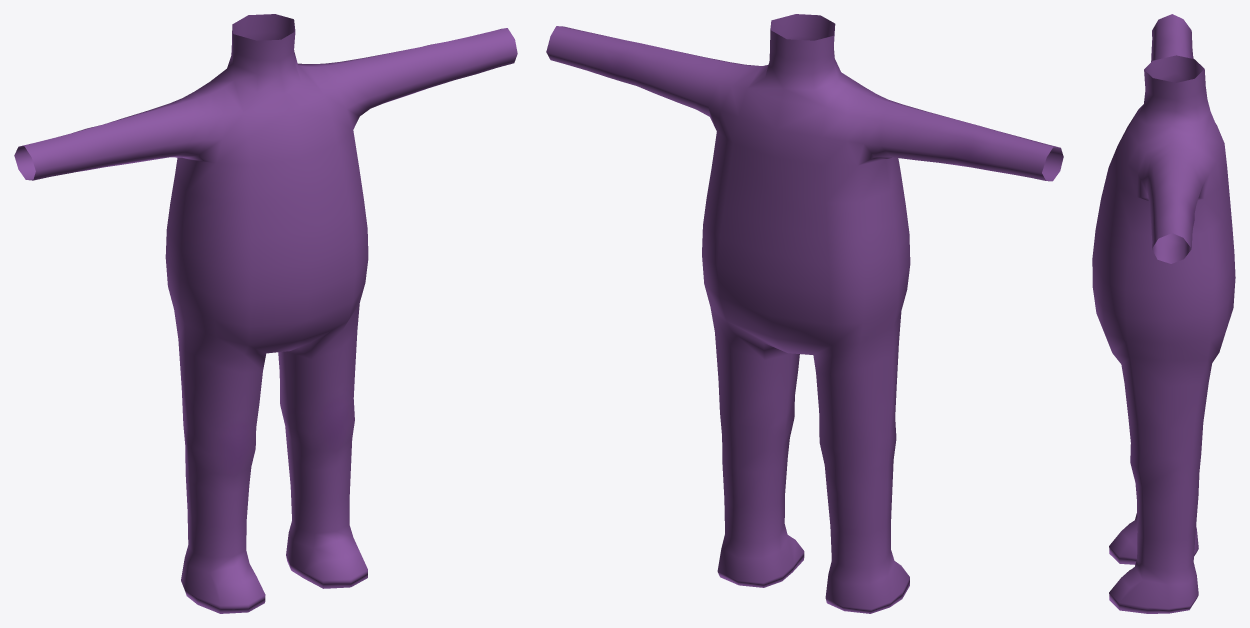
File: Body_Purple_2.fbx
3 views of the same model, side by side, from view 1: azimuth 30°, elevation 25°; view 2: azimuth 150°, elevation 25°; view 3: azimuth 270°, elevation 25° (orthographic). The views are drawn at different scales.
Parts seen in each view (by area): view 1: Body_Purple_2; view 2: Body_Purple_2; view 3: Body_Purple_2.
Boxes of the visible parts, bbox=[...] form: Body_Purple_2: bbox=[14, 14, 517, 613]; Body_Purple_2: bbox=[546, 14, 1063, 613]; Body_Purple_2: bbox=[1092, 14, 1235, 613].
Size of the model in its own units: 95.86 by 104 by 26.46.
